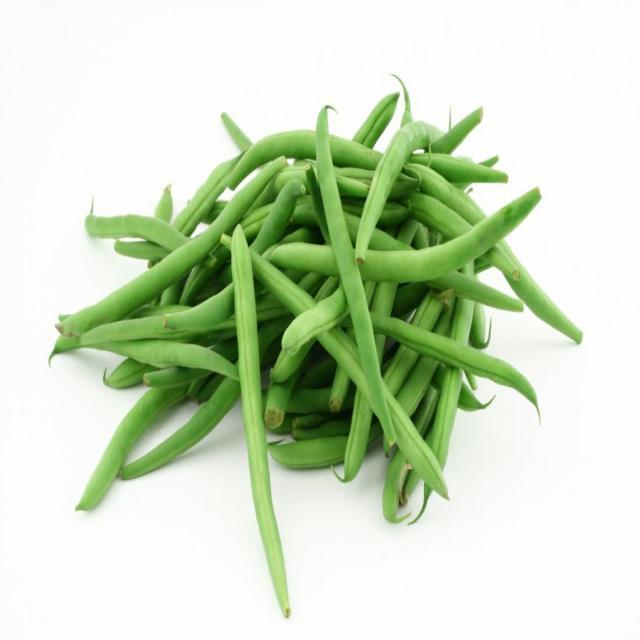Beans: (60, 69, 589, 633)
